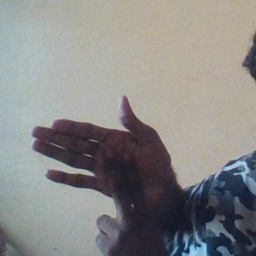N: (22, 91, 169, 231)
